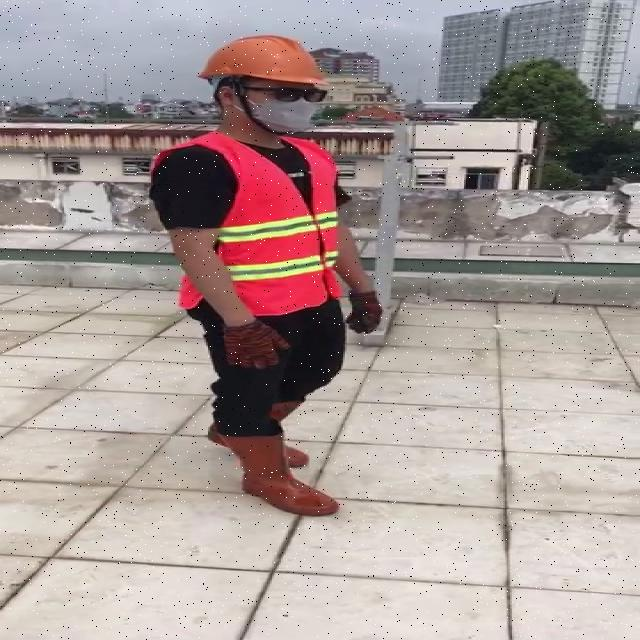Hard_hat: (193, 29, 339, 99)
Vest: (210, 132, 338, 317)
